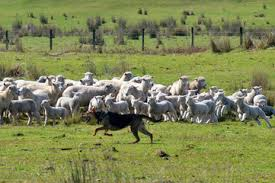sheep: (233, 96, 270, 127), (6, 99, 40, 123), (74, 82, 118, 100), (146, 95, 177, 120), (32, 82, 65, 103), (40, 100, 68, 124), (184, 96, 210, 121), (213, 90, 234, 120), (169, 74, 189, 97), (57, 96, 81, 115), (1, 82, 21, 104), (125, 84, 146, 104), (104, 97, 130, 113), (189, 73, 209, 93), (128, 98, 148, 114), (88, 95, 104, 113), (253, 93, 269, 109)
